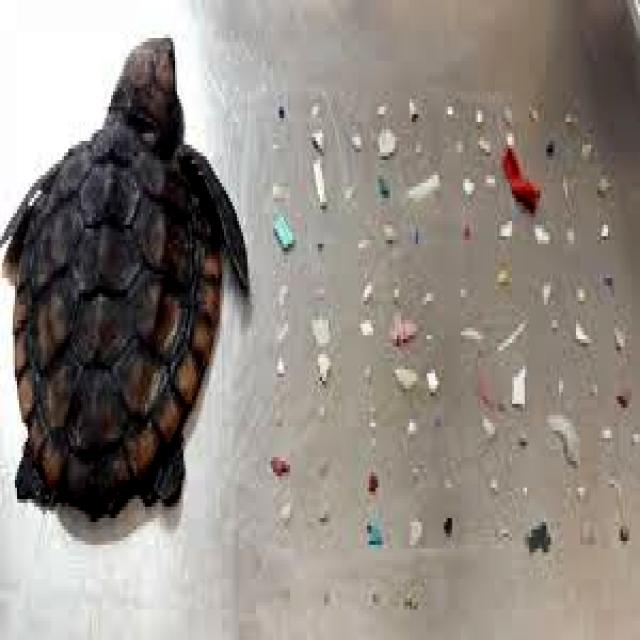Sea turtle: (1, 6, 250, 573)
